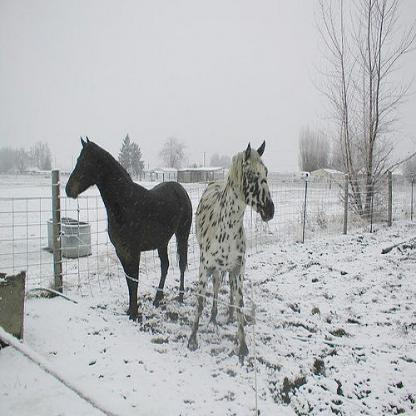horse: (64, 134, 192, 320), (186, 139, 274, 357)
